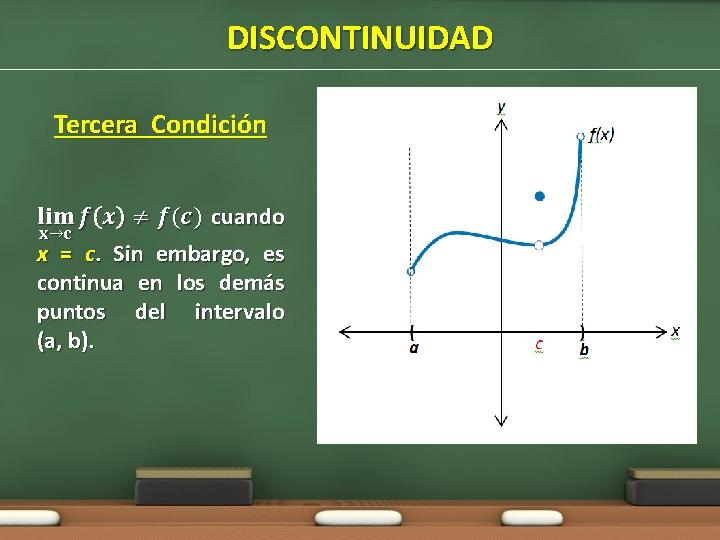paragraph: (25, 90, 305, 377)
title: (220, 14, 510, 58)
